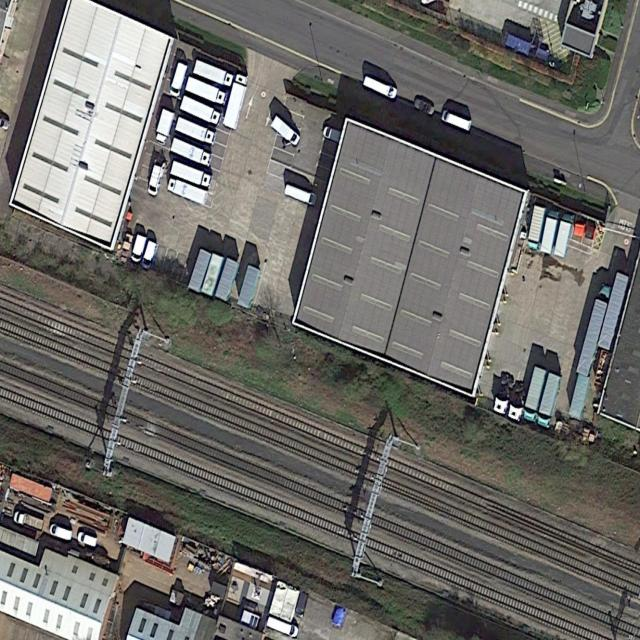large-vehicle: (576, 280, 614, 379), (222, 72, 251, 132), (536, 370, 563, 431), (180, 93, 223, 130), (523, 365, 549, 426), (184, 74, 229, 107), (169, 159, 214, 190), (192, 57, 235, 89), (168, 136, 213, 166), (175, 115, 217, 147), (166, 176, 209, 206), (539, 206, 561, 258), (553, 211, 576, 260), (527, 203, 548, 254), (270, 114, 302, 147), (12, 507, 46, 536), (362, 75, 398, 101), (154, 107, 176, 148), (283, 183, 319, 208), (147, 157, 167, 197), (440, 109, 473, 133), (168, 62, 189, 98)
small-vehicle: (266, 614, 299, 639), (141, 239, 159, 271), (130, 233, 148, 265), (322, 125, 348, 145), (49, 523, 74, 542), (413, 97, 436, 117), (294, 591, 309, 620), (77, 531, 98, 548)
